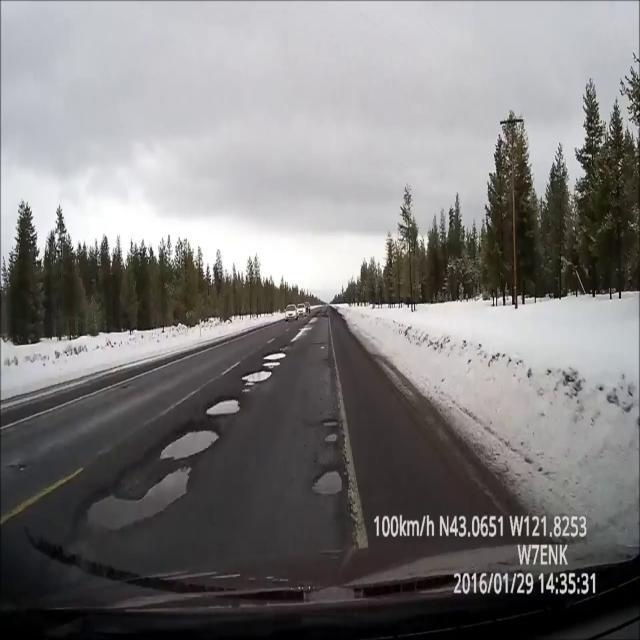pothole: (86, 461, 202, 542), (156, 413, 228, 468), (304, 453, 350, 511), (198, 384, 248, 421), (312, 411, 340, 453), (235, 366, 278, 387), (258, 348, 294, 370), (312, 327, 331, 358), (294, 319, 313, 336)
